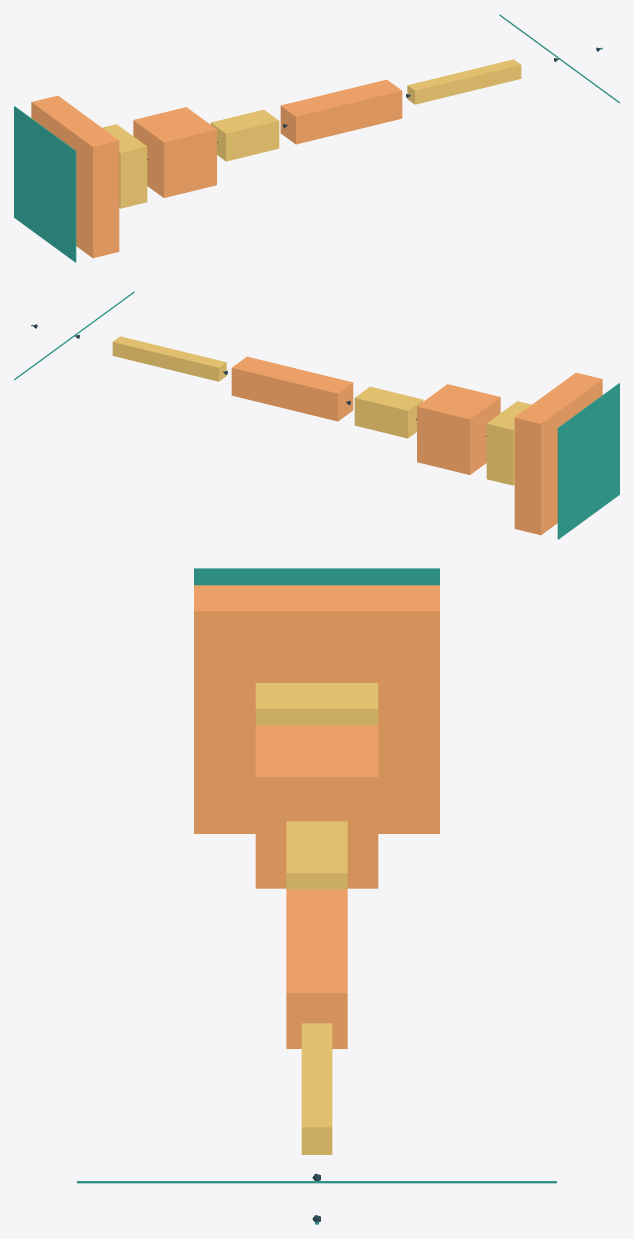
3 renders of one model, top to bottom at view 1: azimuth 30°, elevation 25°; view 2: azimuth 150°, elevation 25°; view 3: azimuth 270°, elevation 25°, orthographic. The views are drawn at different scales.
Size of what is drawn, in the model's own units: 671 by 128 by 250.
